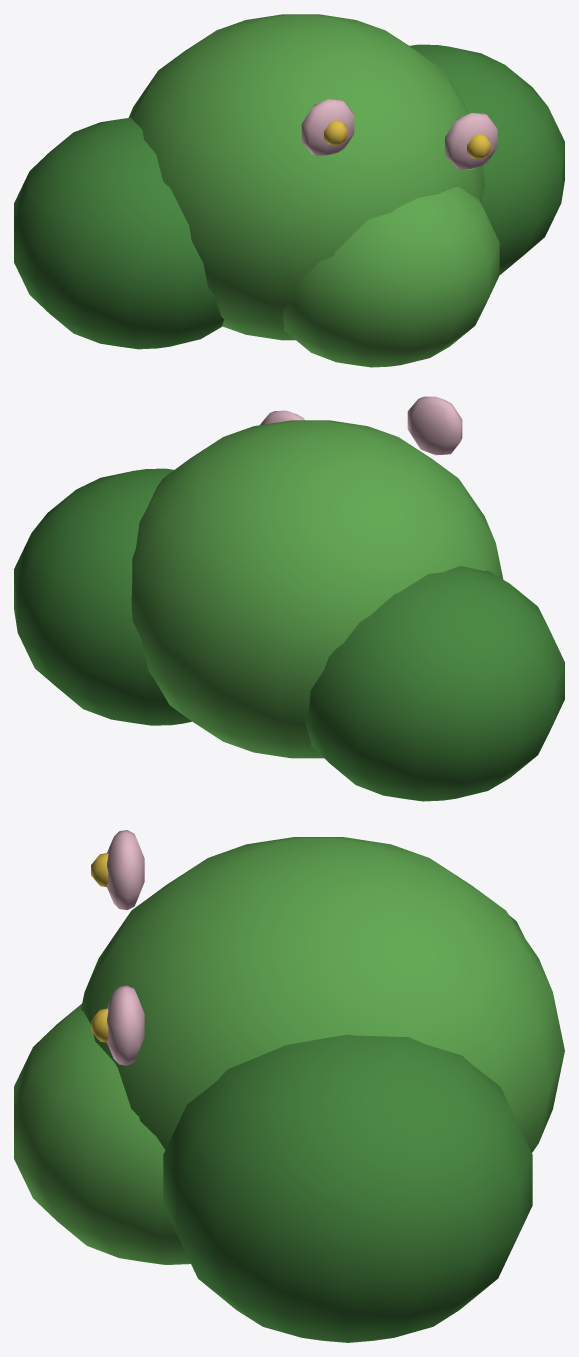
Rendered from prop_bush.glb.
The picture shows the model from 3 angles, top to bottom: view 1: azimuth 30°, elevation 25°; view 2: azimuth 150°, elevation 25°; view 3: azimuth 270°, elevation 25°; orthographic projection. The views are drawn at different scales.
Visible parts, largest first — view 1: SK_prop_bush; view 2: SK_prop_bush; view 3: SK_prop_bush.
Part boxes in pixels (<box>): SK_prop_bush: <box>14,14,564,367</box>; SK_prop_bush: <box>14,396,564,801</box>; SK_prop_bush: <box>14,830,564,1342</box>.
Size of the model in its own units: 1.31 by 0.714 by 0.9397.
